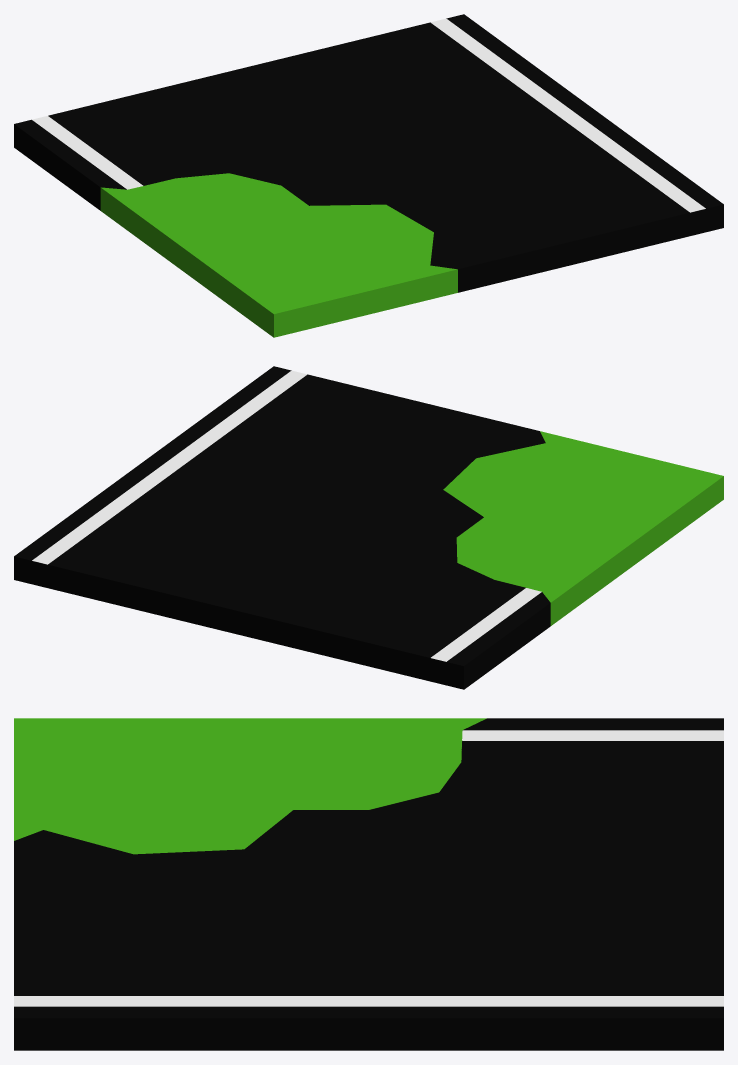
Rendered from grasstile2.fbx.
3 views of the same model, one above another, from view 1: azimuth 30°, elevation 25°; view 2: azimuth 150°, elevation 25°; view 3: azimuth 270°, elevation 25° (orthographic). The views are drawn at different scales.
Parts seen in each view (by area): view 1: Cube.001, Cube.002; view 2: Cube.001, Cube.002; view 3: Cube.001, Cube.002.
Part boxes in pixels (left/top/right/bottom): Cube.001: left=14, top=14, right=723, bottom=292; Cube.002: left=100, top=173, right=457, bottom=337; Cube.001: left=14, top=366, right=550, bottom=689; Cube.002: left=443, top=431, right=723, bottom=625; Cube.001: left=14, top=718, right=723, bottom=1050; Cube.002: left=14, top=718, right=486, bottom=854.
Bounding box in the file's own units: 20 × 1 × 20.
